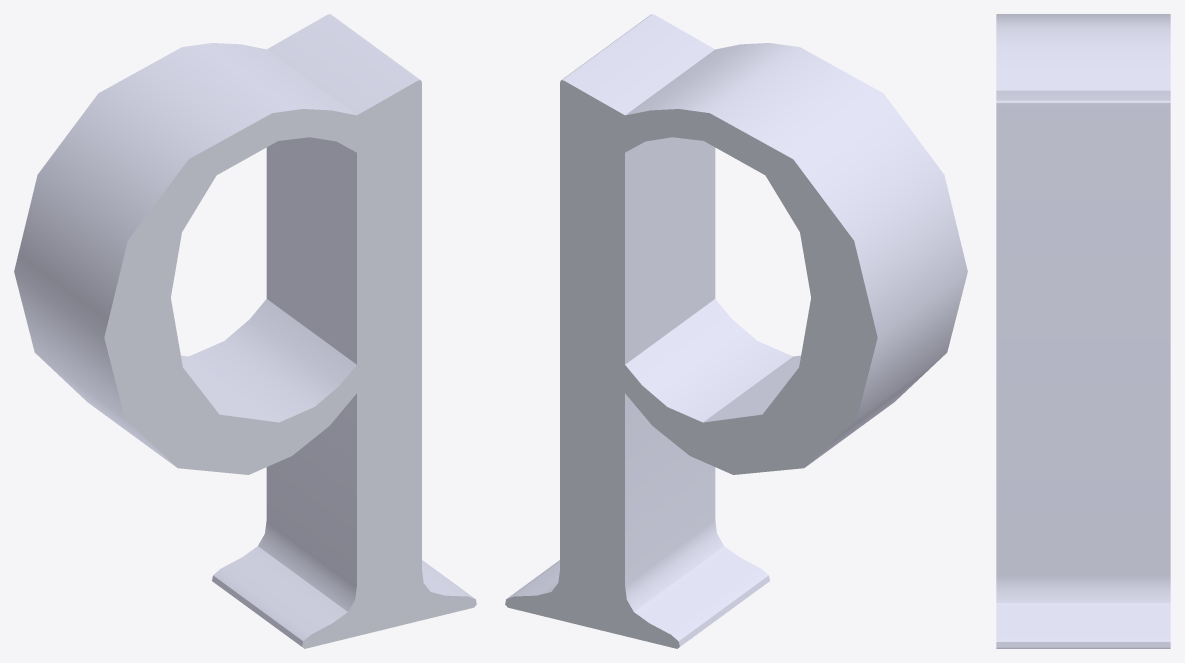
The model's file is Q_Soul_Grey.glb.
3 renders of one model, left to right at view 1: azimuth 30°, elevation 25°; view 2: azimuth 150°, elevation 25°; view 3: azimuth 270°, elevation 25°, orthographic. The views are drawn at different scales.
Visible parts, largest first — view 1: q_Soul_Grey; view 2: q_Soul_Grey; view 3: q_Soul_Grey.
Boxes of the visible parts, x1=… form: q_Soul_Grey: x1=14, y1=14, x2=476, y2=648; q_Soul_Grey: x1=505, y1=14, x2=967, y2=648; q_Soul_Grey: x1=996, y1=14, x2=1170, y2=648.
Size of what is drawn, in the model's own units: 0.1073 by 0.1496 by 0.045.
2 materials, 2 textured.
